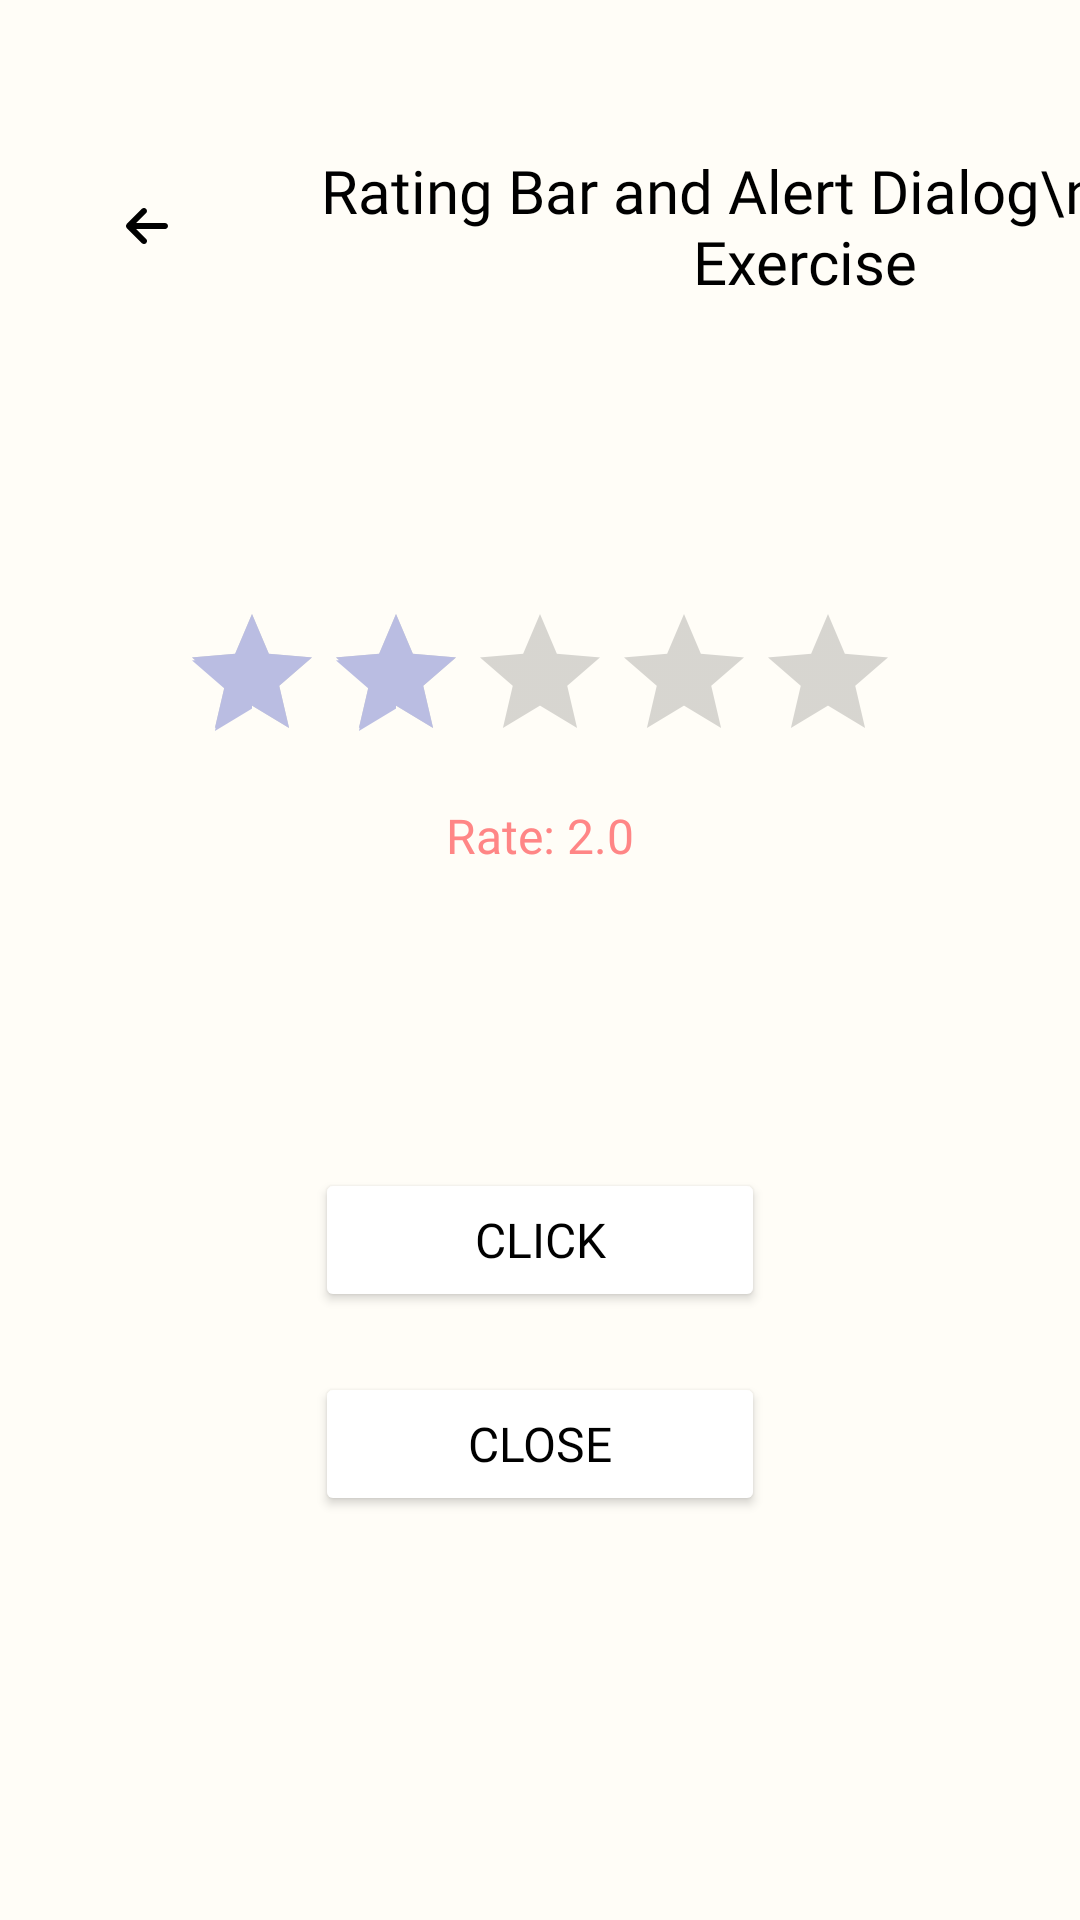

Named icons in this screenshot (1080px x 1920px) and their bounding boxes, (x1, y1, x2, y2):
backarrow: (126, 208, 168, 244)
